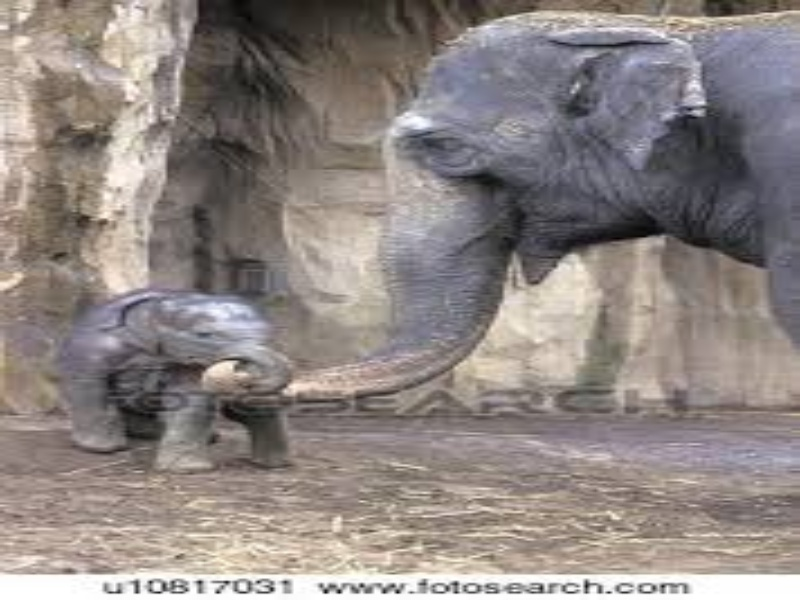elephant: (322, 1, 800, 523), (45, 213, 295, 467)
